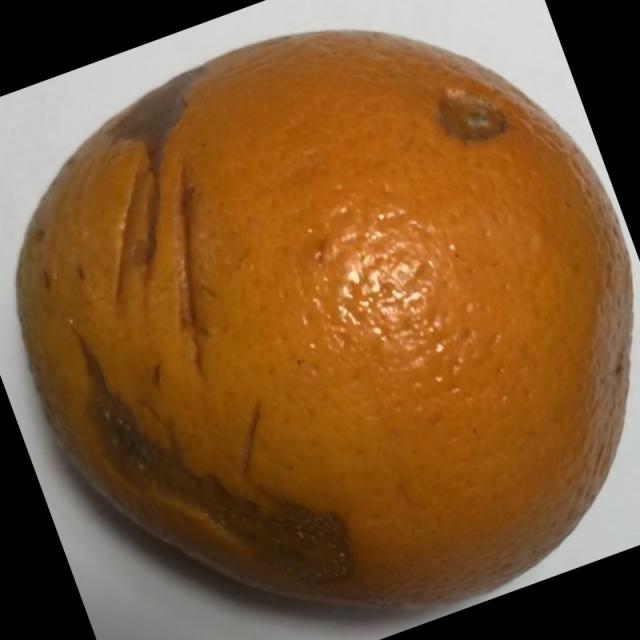canker: (12, 20, 640, 618)
